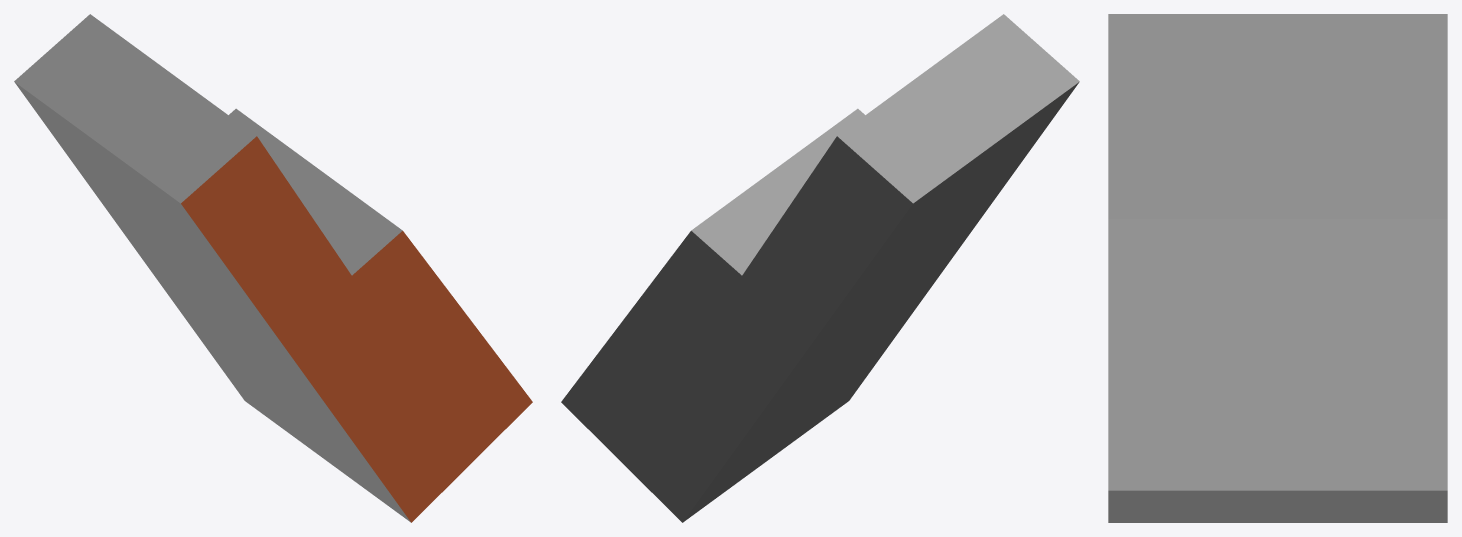
File: construction_5916_assumed_A_Casa_h6m.obj
3 views of the same model, side by side, from view 1: azimuth 30°, elevation 25°; view 2: azimuth 150°, elevation 25°; view 3: azimuth 270°, elevation 25° (orthographic).
Visible parts, largest first — view 1: construction_5916_assumed_A_Casa; view 2: construction_5916_assumed_A_Casa; view 3: construction_5916_assumed_A_Casa.
Part boxes in pixels (x1,y1,x2,y2): construction_5916_assumed_A_Casa: (14, 14, 532, 522); construction_5916_assumed_A_Casa: (561, 14, 1079, 522); construction_5916_assumed_A_Casa: (1108, 14, 1447, 522).
Size of the model in its own units: 7.32 by 8.43 by 6.
